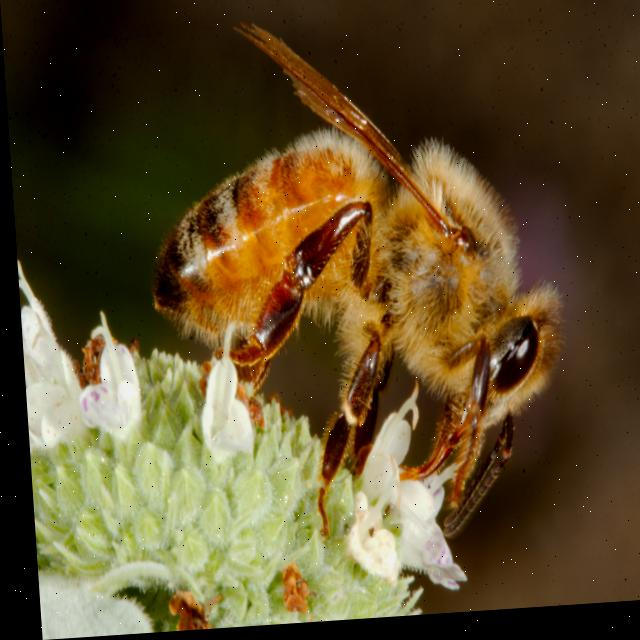Apis-mellifera-scutellata: (119, 0, 572, 592)
